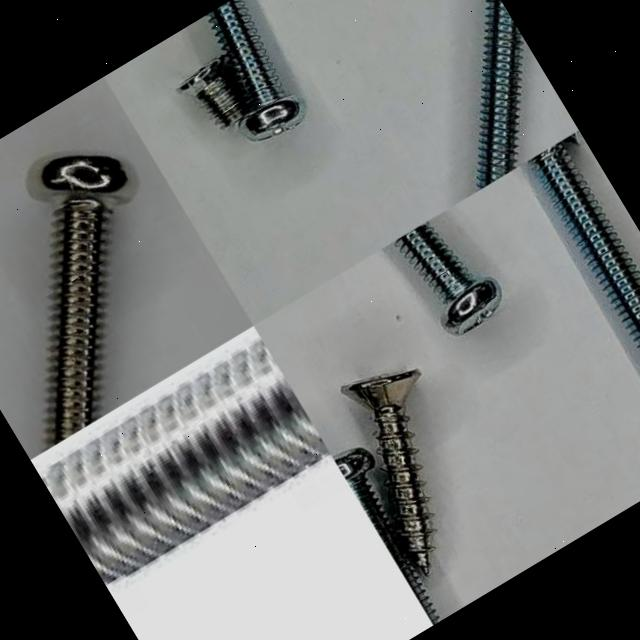Screw: (39, 335, 330, 587), (39, 154, 129, 446), (529, 142, 640, 352), (341, 369, 433, 576), (179, 0, 304, 141), (393, 221, 501, 334), (477, 0, 522, 192), (177, 55, 243, 129)
